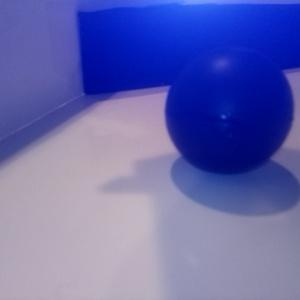dead_ball: (164, 45, 294, 174)
